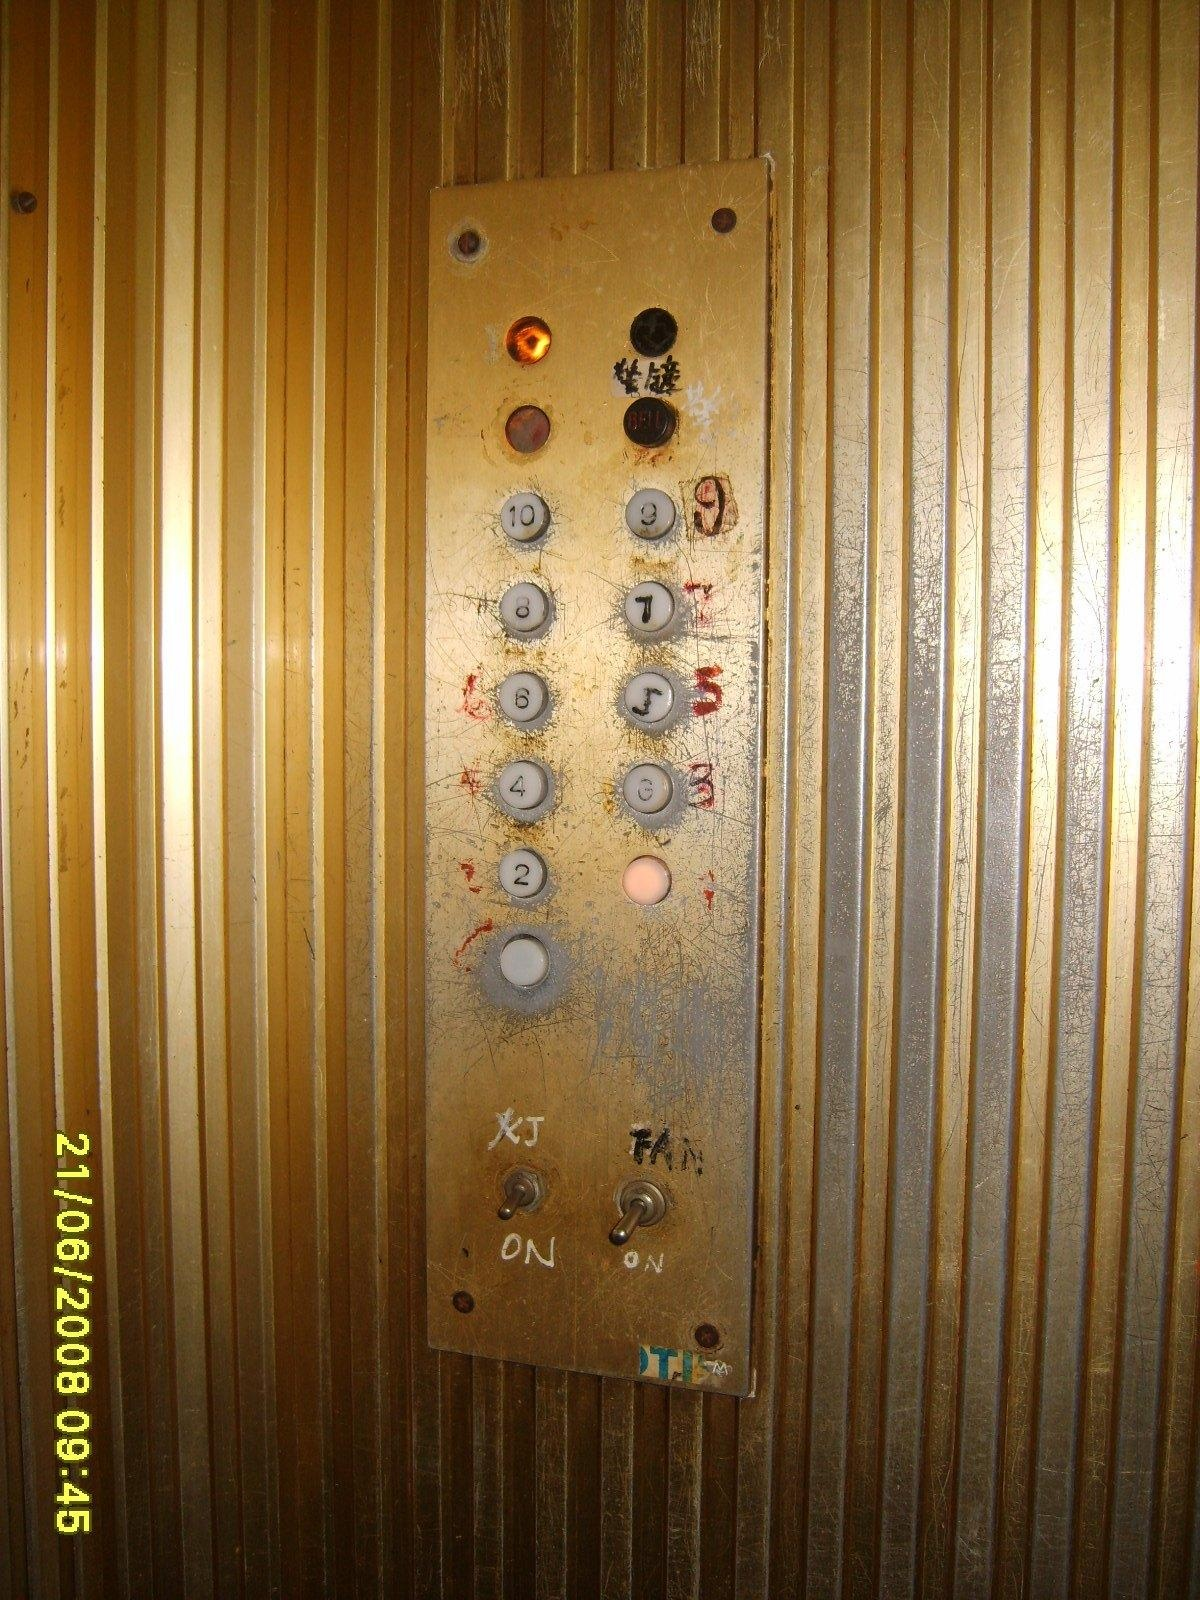10: (500, 493, 550, 542)
2: (493, 847, 548, 900)
4: (498, 756, 550, 811)
5: (626, 673, 674, 723)
6: (498, 671, 548, 723)
7: (625, 580, 676, 632)
8: (500, 582, 550, 636)
9: (624, 488, 676, 540)
G: (620, 760, 674, 816)
empty: (495, 931, 553, 990), (498, 401, 555, 457), (620, 852, 674, 908), (628, 302, 681, 359)
indicator: (615, 393, 682, 454), (505, 316, 553, 365)
switch: (487, 1151, 553, 1225), (604, 1173, 671, 1246)
